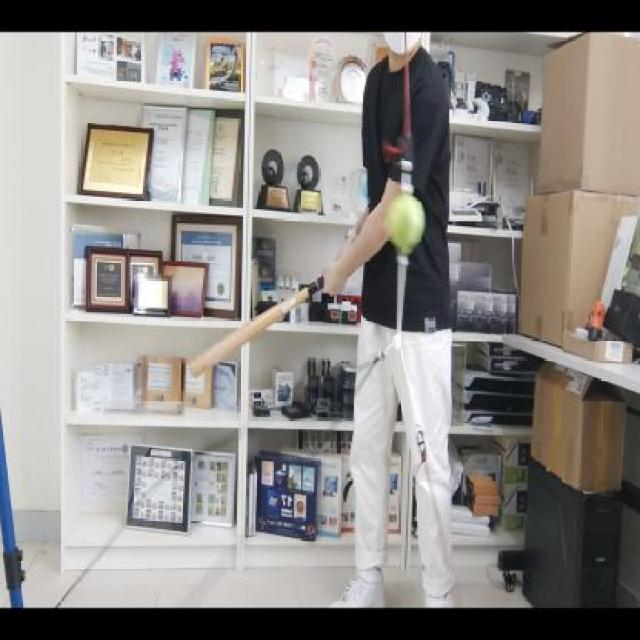baseball: (385, 192, 426, 259)
